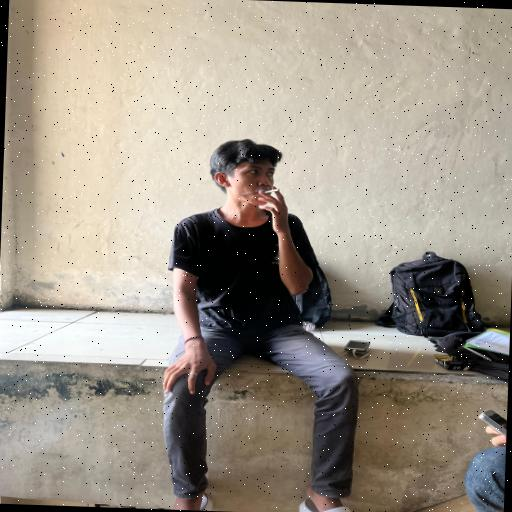merokok: (229, 154, 296, 216)
